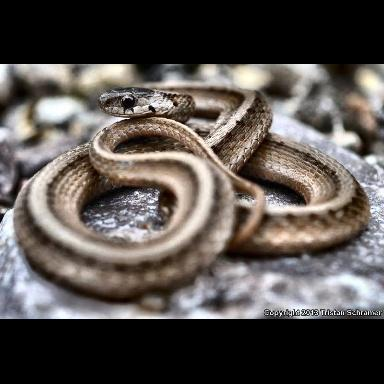snake: (18, 87, 371, 279)
